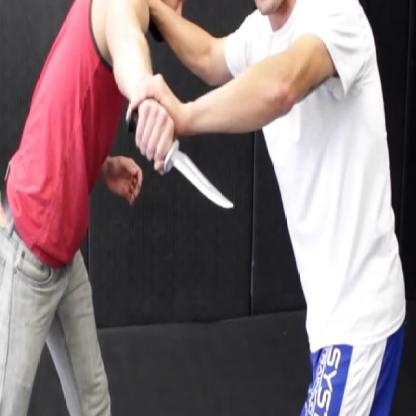knife: (122, 97, 239, 229)
